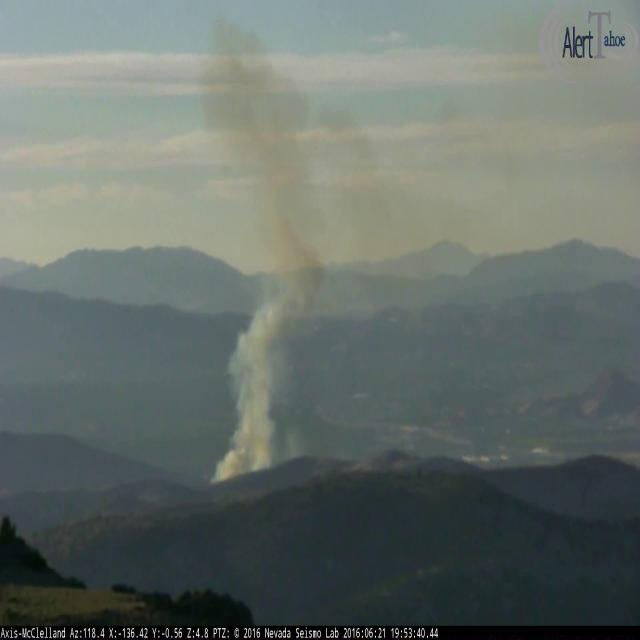smoke: (199, 3, 536, 483)
